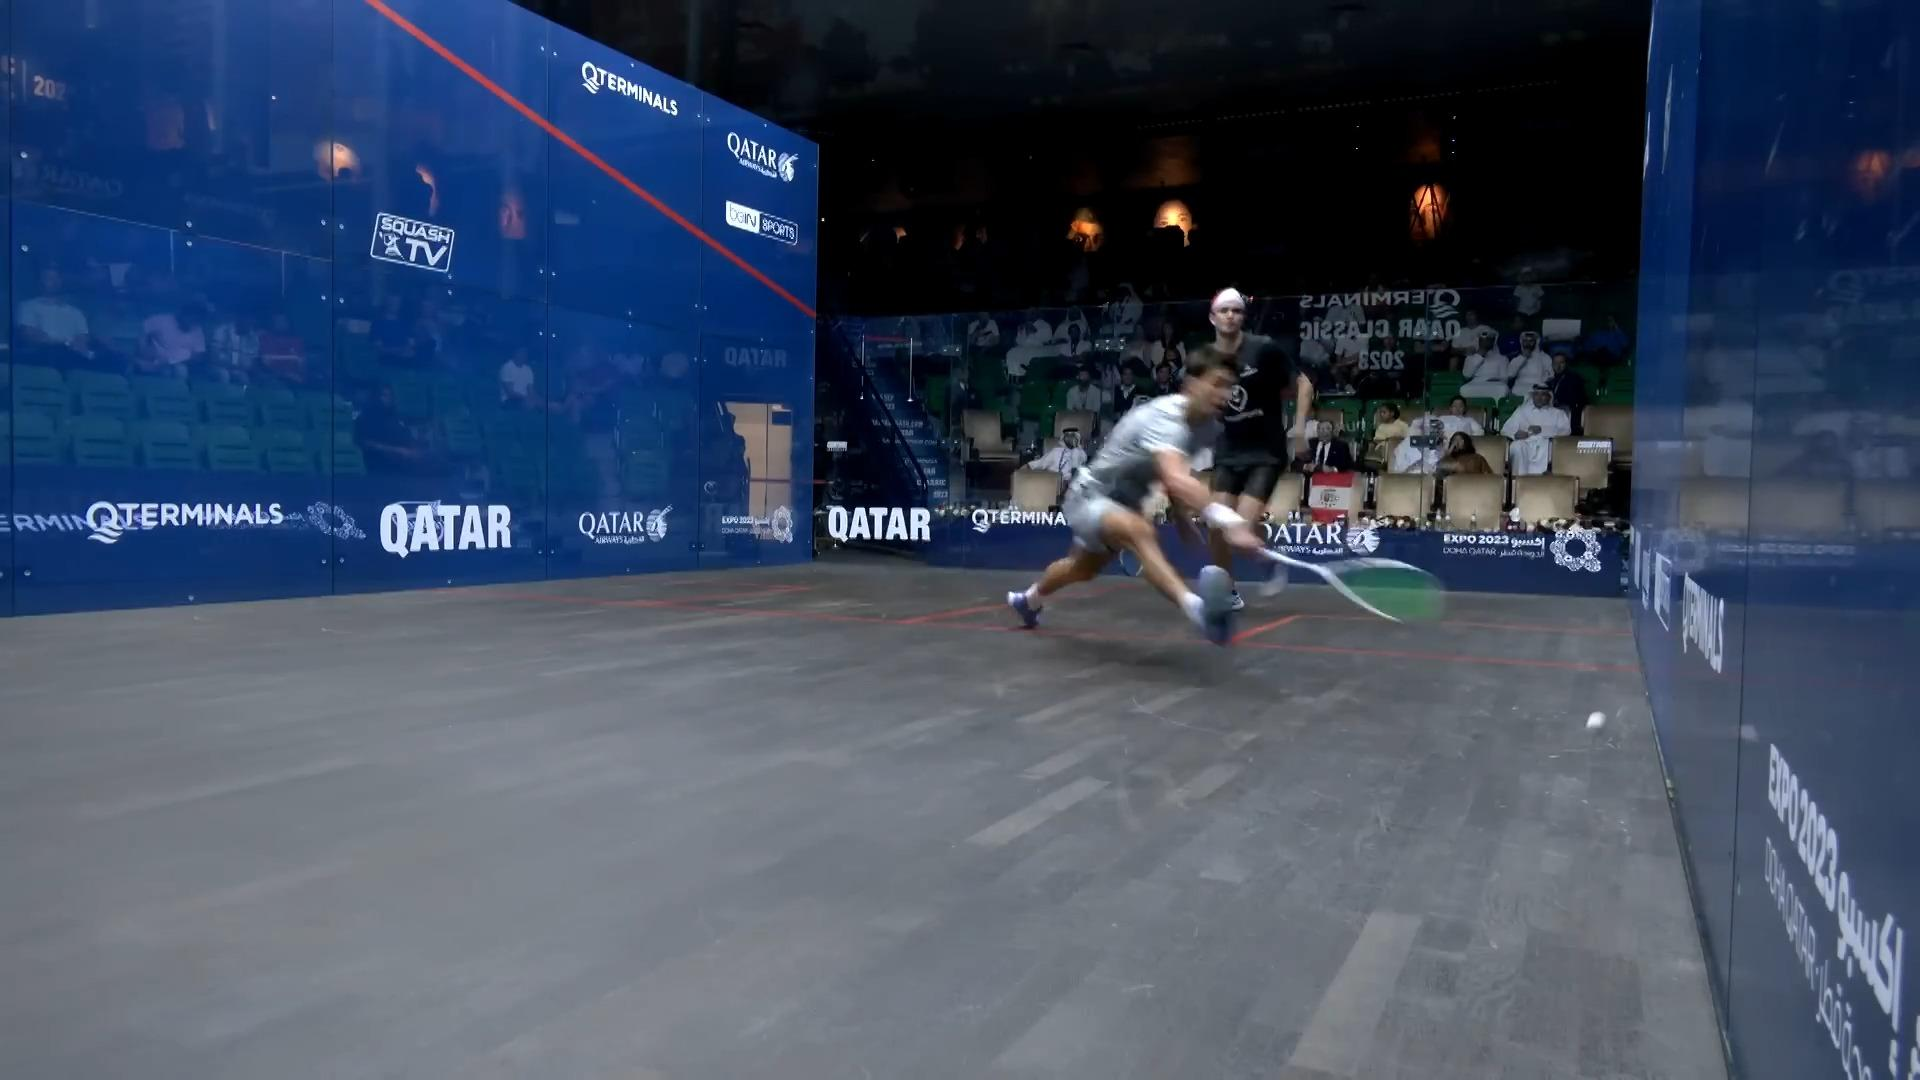Racket: (1266, 543, 1451, 632)
